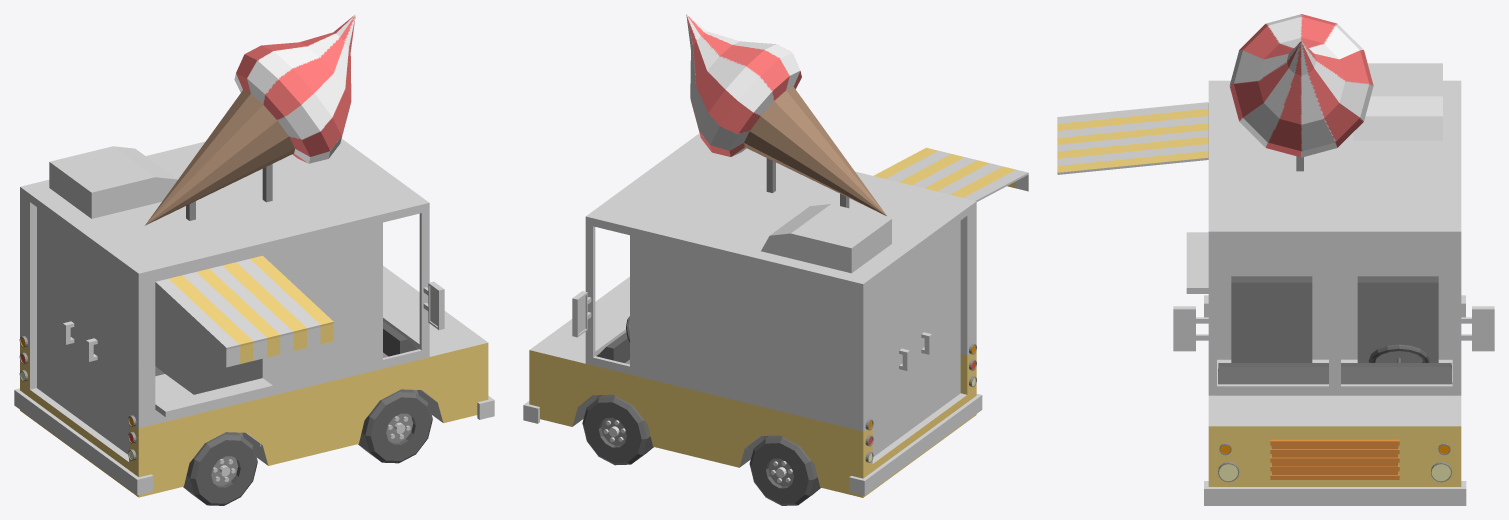
The model's file is IcescreamTruck.glb.
The picture shows the model from 3 angles, left to right: view 1: azimuth 30°, elevation 25°; view 2: azimuth 150°, elevation 25°; view 3: azimuth 270°, elevation 25°; orthographic projection. The views are drawn at different scales.
Parts seen in each view (by area): view 1: Ice Cream Truck; view 2: Ice Cream Truck; view 3: Ice Cream Truck.
Part boxes in pixels (left/top/right/bottom): Ice Cream Truck: left=14, top=14, right=494, bottom=505; Ice Cream Truck: left=523, top=14, right=1028, bottom=505; Ice Cream Truck: left=1057, top=14, right=1494, bottom=505.
Size of the model in its own units: 2.51 by 2.81 by 2.49.
1 material, 1 textured.
